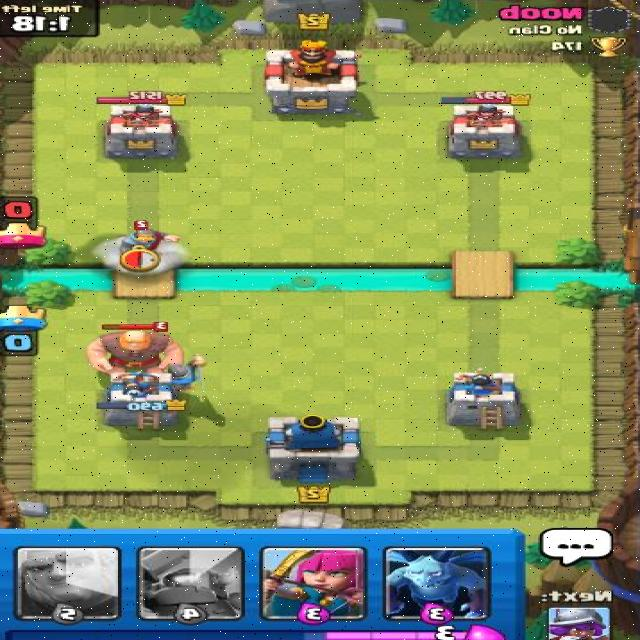Enemy-Giant: (84, 319, 186, 384)
Enemy-Knight: (113, 219, 182, 274)
Player-Knight: (136, 352, 209, 396)
